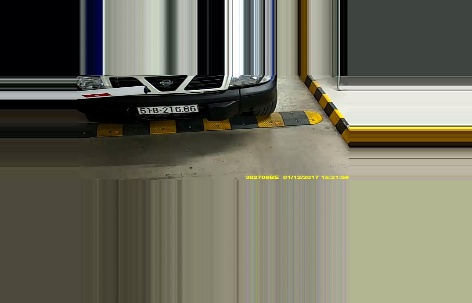plate: (136, 103, 198, 115)
